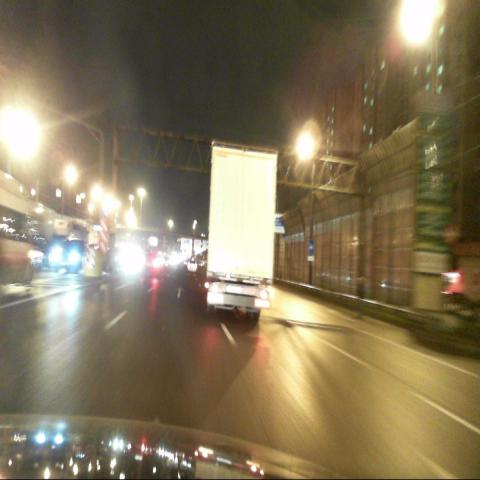5_3: (308, 239, 314, 255)
